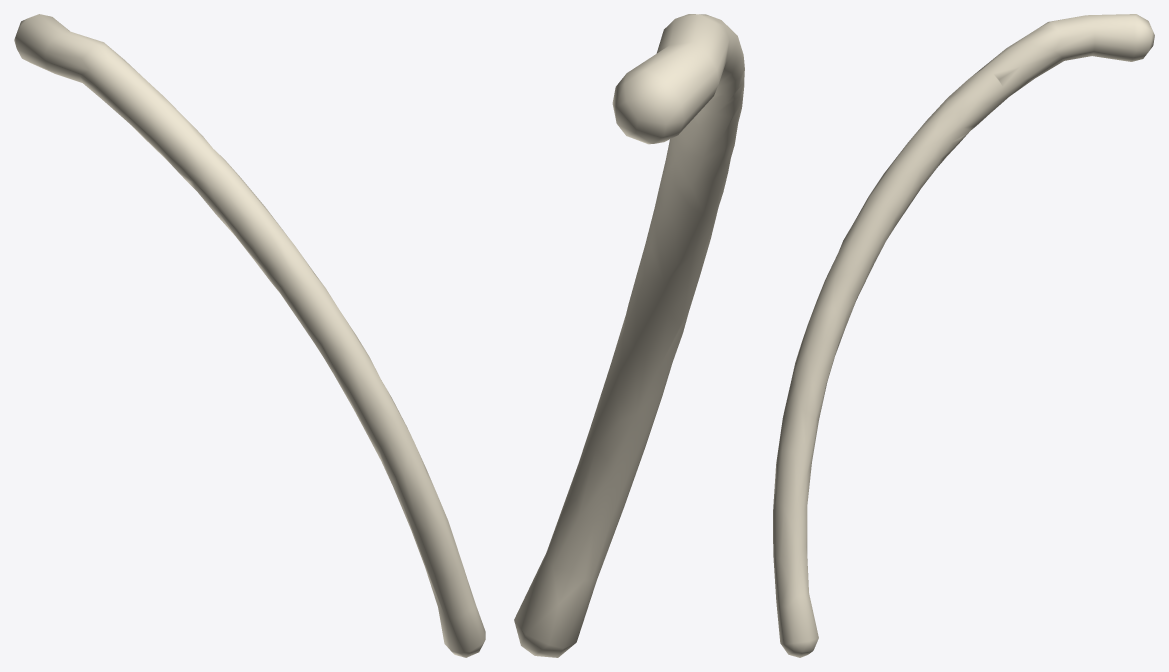
Rendered from rib_13_l.glb.
The picture shows the model from 3 angles, left to right: view 1: azimuth 30°, elevation 25°; view 2: azimuth 150°, elevation 25°; view 3: azimuth 270°, elevation 25°; orthographic projection. The views are drawn at different scales.
Parts seen in each view (by area): view 1: geometry_0; view 2: geometry_0; view 3: geometry_0.
Boxes of the visible parts, box(x1,y1,x2,y2) form: geometry_0: box(14, 14, 485, 657); geometry_0: box(514, 14, 744, 657); geometry_0: box(773, 14, 1154, 657).
Bounding box in the file's own units: 0.3103 × 0.5886 × 0.3862.
